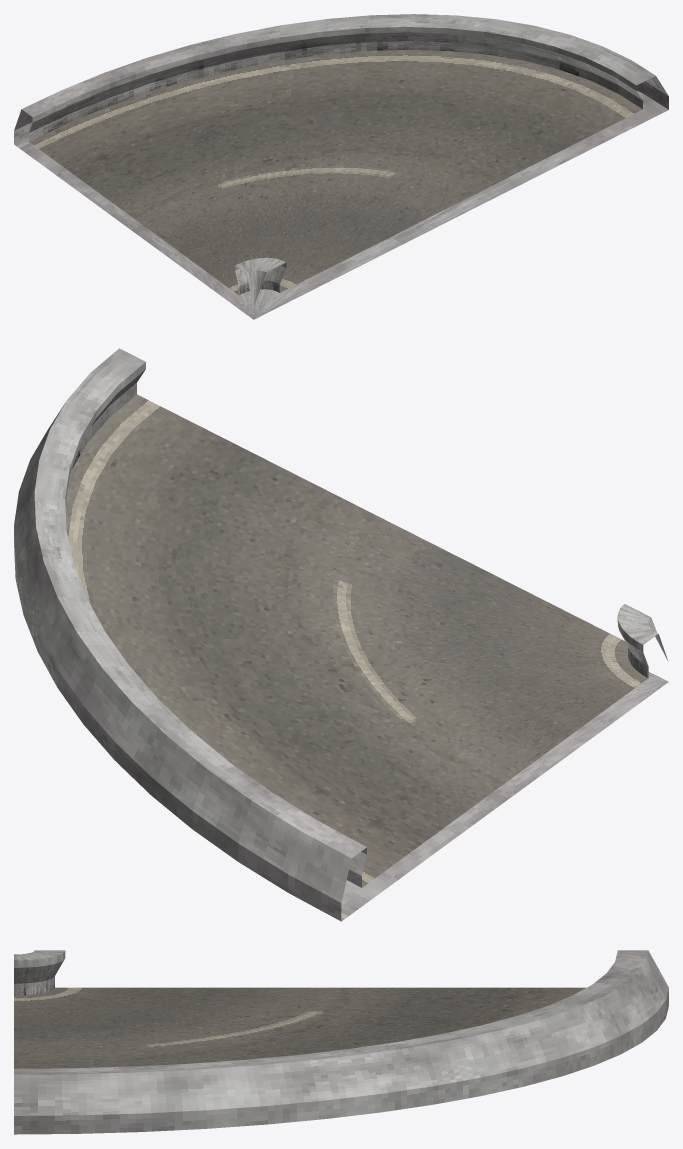
File: turn-left1x1.glb
The picture shows the model from 3 angles, top to bottom: view 1: azimuth 30°, elevation 25°; view 2: azimuth 150°, elevation 25°; view 3: azimuth 270°, elevation 25°; orthographic projection. The views are drawn at different scales.
Visible parts, largest first — view 1: road-Turn-HalfBankedLeft-BiSlopeDown-Even-Left-Size1; view 2: road-Turn-HalfBankedLeft-BiSlopeDown-Even-Left-Size1; view 3: road-Turn-HalfBankedLeft-BiSlopeDown-Even-Left-Size1.
Boxes of the visible parts, <box> form: road-Turn-HalfBankedLeft-BiSlopeDown-Even-Left-Size1: <box>14,14,668,319</box>; road-Turn-HalfBankedLeft-BiSlopeDown-Even-Left-Size1: <box>14,348,668,921</box>; road-Turn-HalfBankedLeft-BiSlopeDown-Even-Left-Size1: <box>14,950,668,1134</box>.
Size of the model in its own units: 1 by 0.3359 by 1.
Materials: 2 (2 with a texture image).
